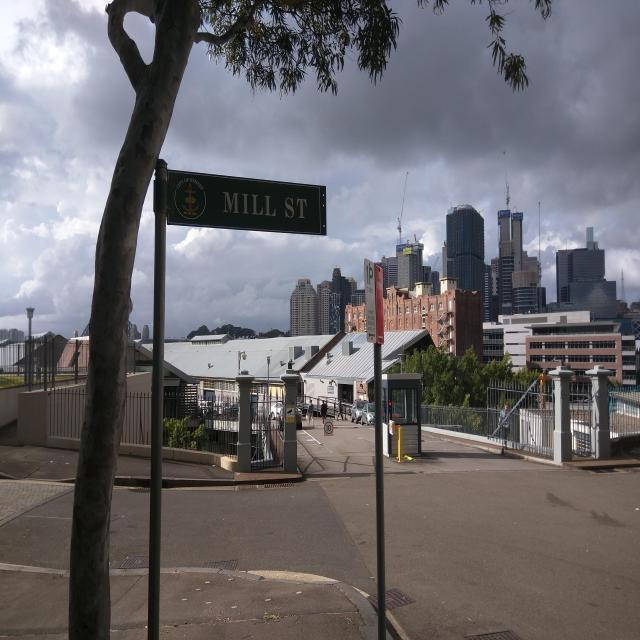Good: (362, 584, 418, 615), (116, 548, 150, 571)
